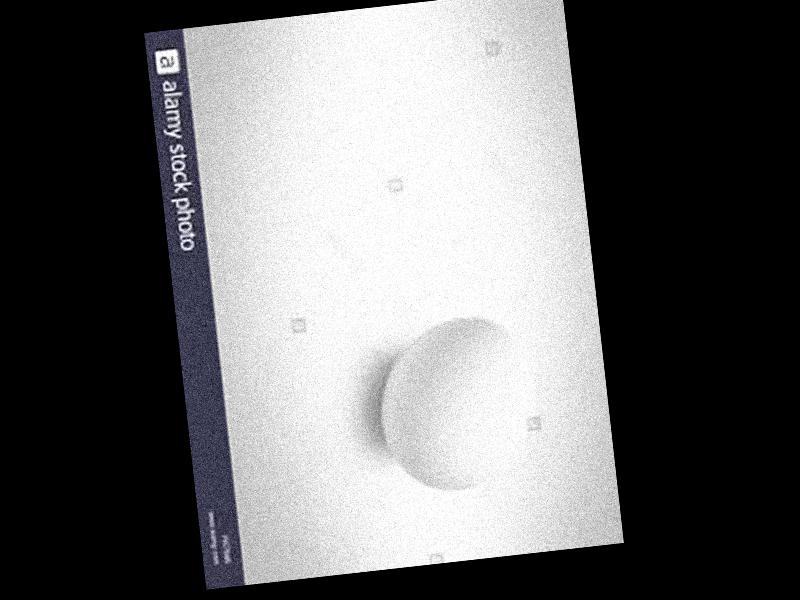Eggs: (370, 312, 542, 499)
